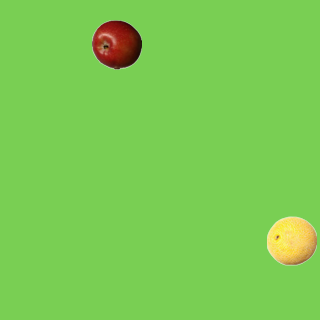Apple Braeburn: (91, 19, 141, 69)
Cantaloupe 1: (266, 215, 316, 265)
